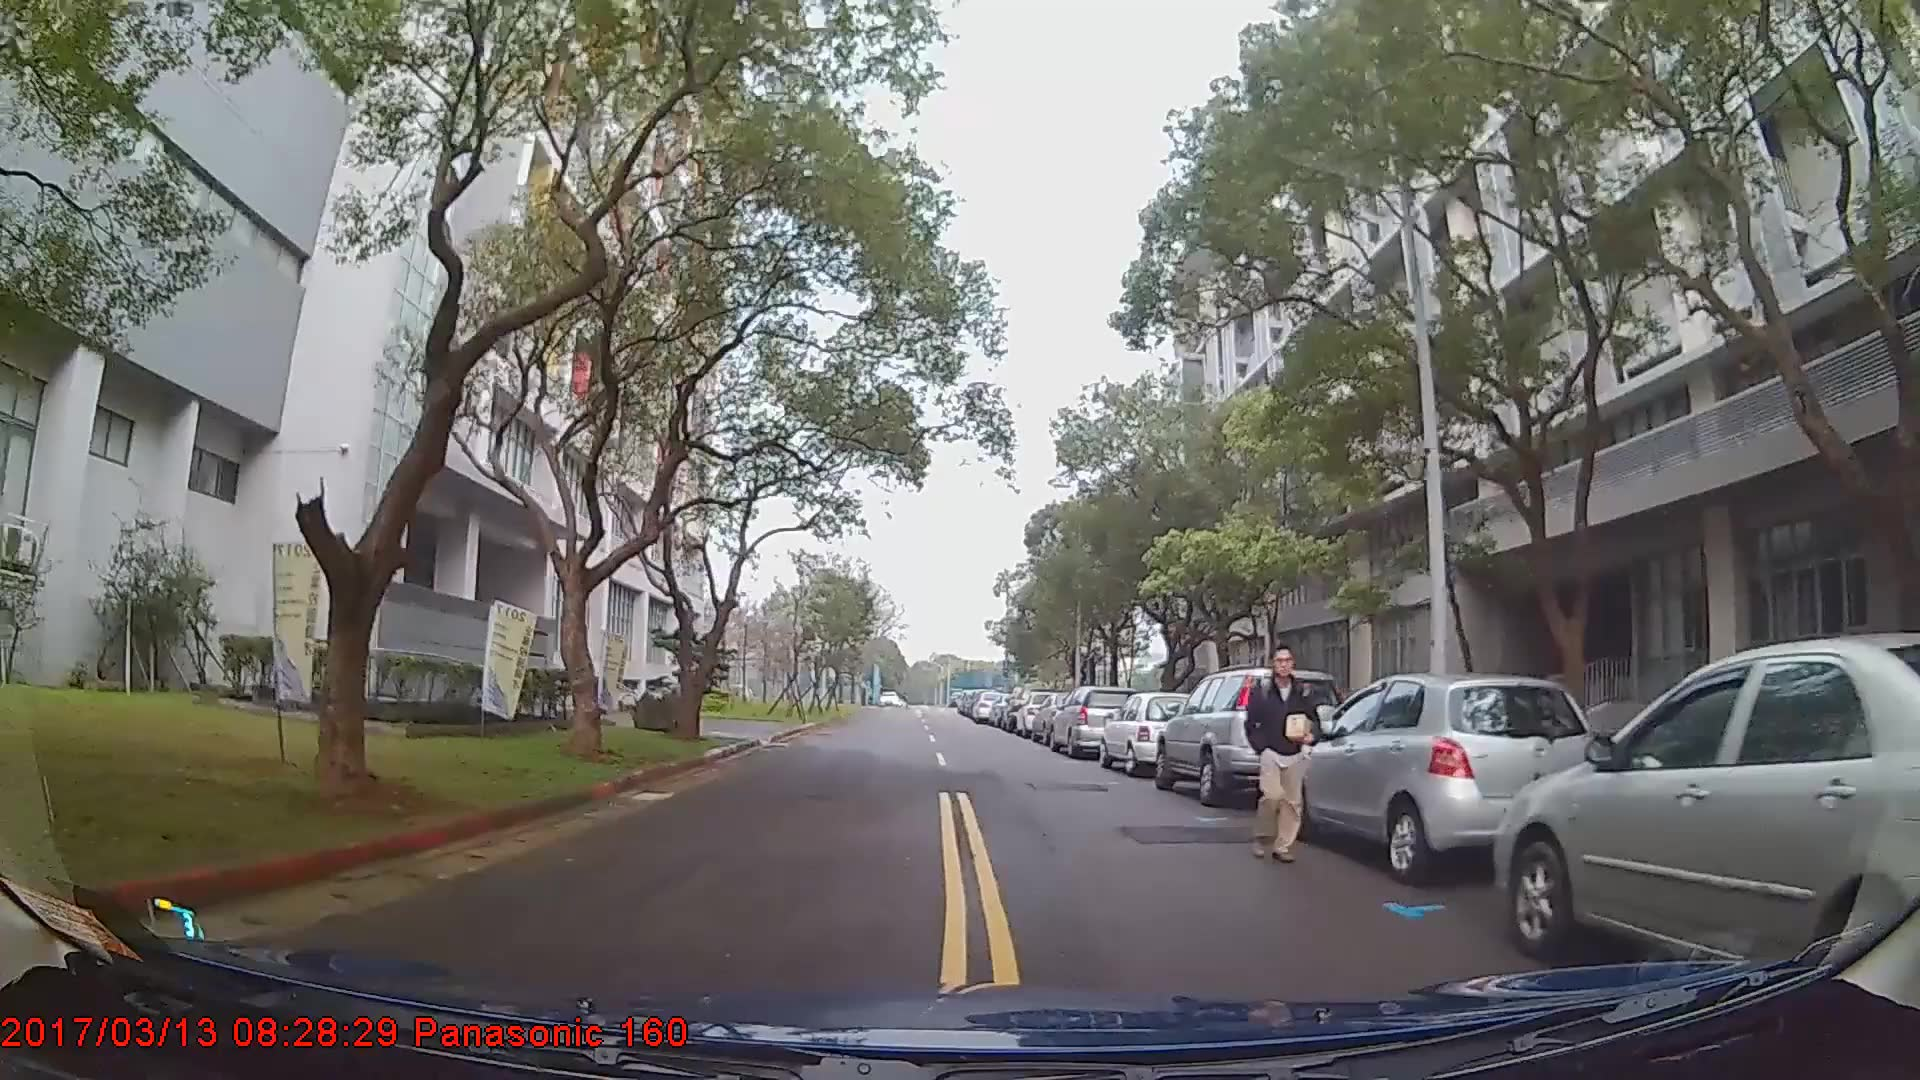pedestrian: (1242, 649, 1323, 866)
vehicle: (1491, 629, 1920, 996), (1278, 665, 1597, 883), (1152, 668, 1349, 804), (1096, 691, 1203, 774), (1048, 685, 1140, 759), (971, 688, 1008, 724)
